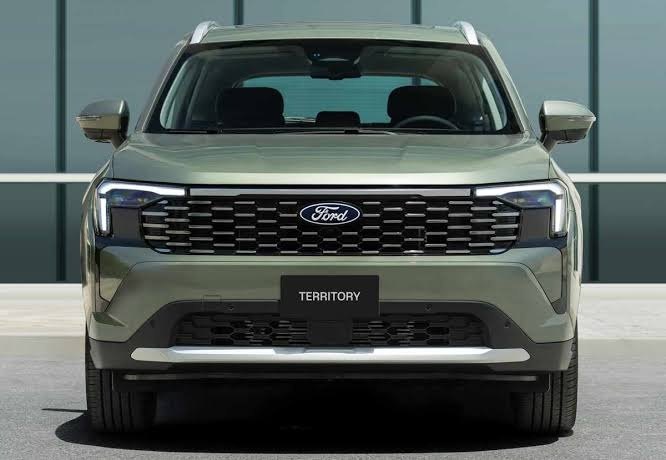car: (50, 8, 609, 447), (45, 2, 593, 444)
